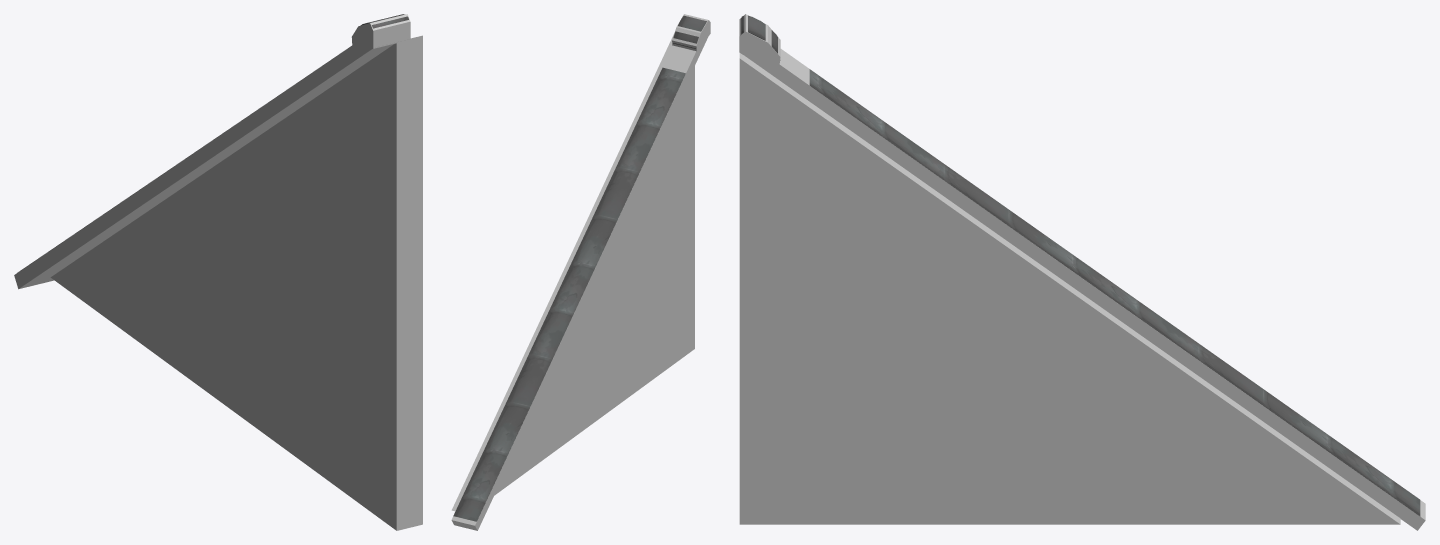
The model's file is SM_M01Roof01_2.fbx.
3 views of the same model, side by side, from view 1: azimuth 30°, elevation 25°; view 2: azimuth 150°, elevation 25°; view 3: azimuth 270°, elevation 25° (orthographic). The views are drawn at different scales.
Visible parts, largest first — view 1: SM_M01Roof01_2_ConvexHulls; view 2: SM_M01Roof01_2_ConvexHulls, SM_M01Roof01_2; view 3: SM_M01Roof01_2_ConvexHulls, SM_M01Roof01_2.
Part boxes in pixels (box(x1,y1,x2,y2)): SM_M01Roof01_2_ConvexHulls: box(14, 14, 422, 530); SM_M01Roof01_2_ConvexHulls: box(451, 14, 710, 530); SM_M01Roof01_2: box(453, 15, 706, 521); SM_M01Roof01_2_ConvexHulls: box(739, 14, 1425, 530); SM_M01Roof01_2: box(741, 15, 1420, 516).
Bounding box in the file's own units: 38.19 × 479 × 385.
4 materials, 3 textured.
